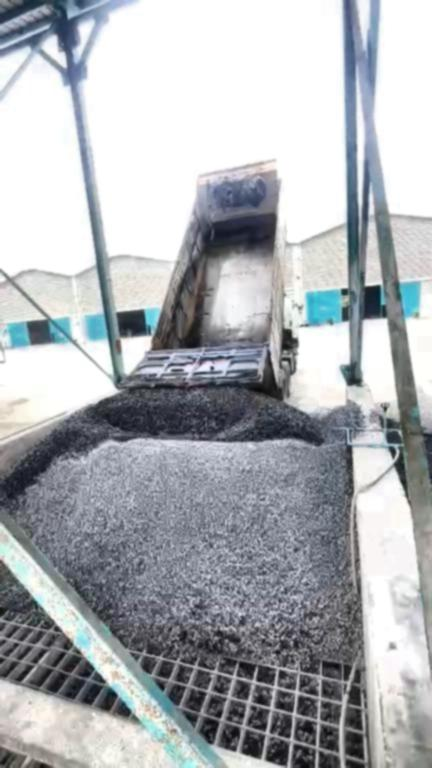gravel: (1, 388, 362, 663), (1, 560, 41, 617), (186, 269, 206, 346)
sand: (1, 402, 26, 437)
